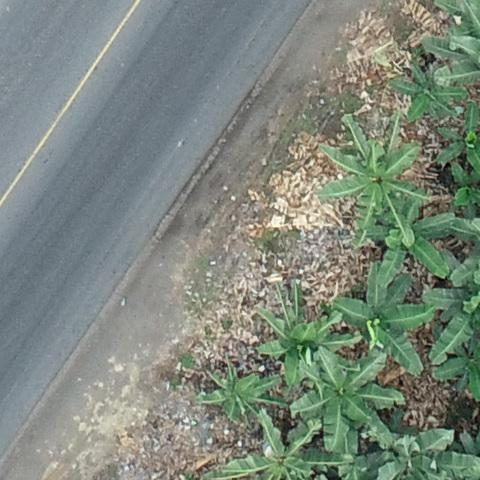Banana-plant: (319, 116, 435, 246), (287, 348, 405, 445), (335, 261, 431, 378), (352, 200, 456, 292), (209, 414, 353, 480), (259, 289, 359, 378), (392, 57, 468, 125), (203, 364, 275, 424)
